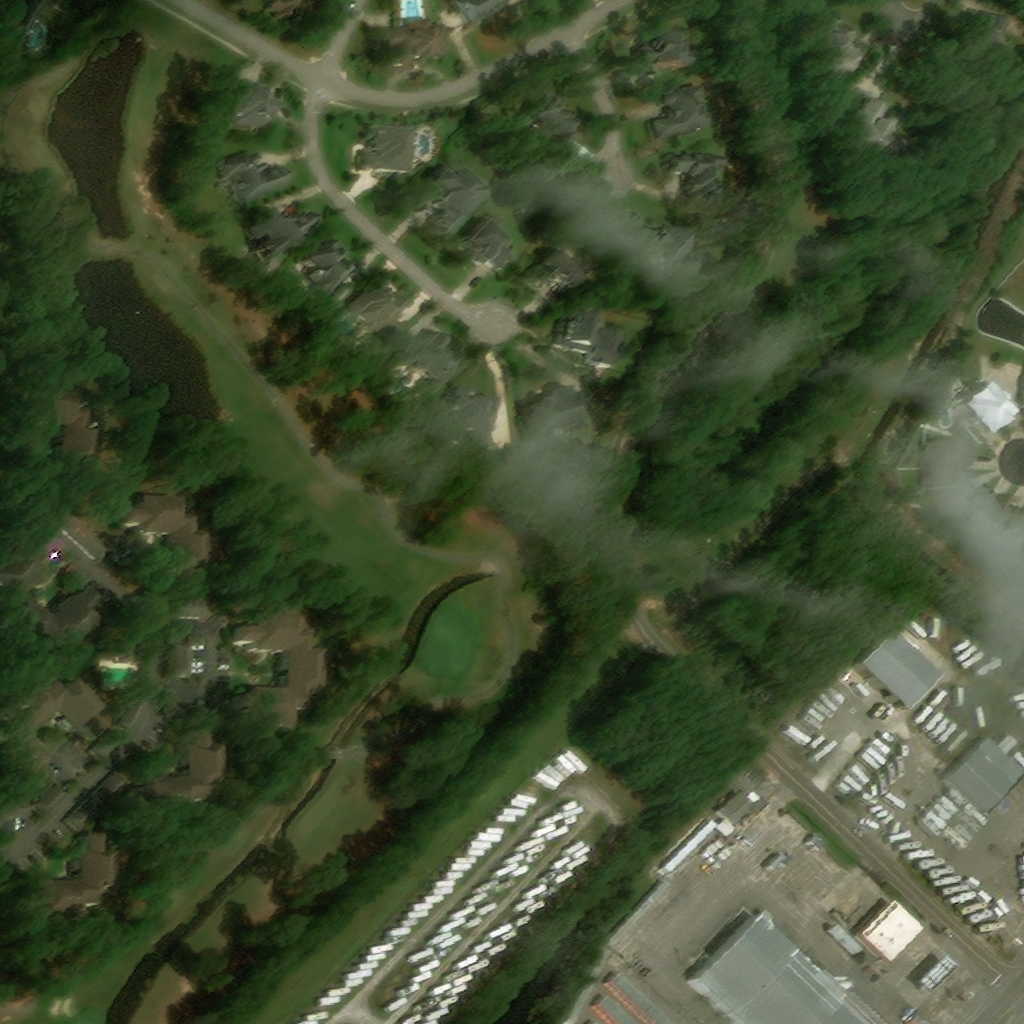no_damage: (690, 913, 878, 1023), (0, 532, 102, 657), (0, 677, 107, 785), (234, 613, 324, 730), (120, 494, 220, 590), (7, 379, 107, 468), (18, 833, 116, 918), (130, 728, 223, 813), (858, 628, 940, 709), (948, 736, 1023, 814), (421, 162, 486, 240), (512, 92, 585, 159), (846, 97, 908, 167), (855, 899, 922, 962), (631, 222, 696, 284), (556, 307, 622, 367), (398, 329, 459, 392), (611, 879, 671, 943), (445, 381, 500, 450), (521, 385, 586, 443), (249, 210, 322, 260), (221, 151, 291, 203), (607, 971, 676, 1023), (566, 948, 612, 1023), (349, 283, 409, 340), (653, 84, 714, 138), (304, 238, 356, 296), (384, 18, 449, 64), (665, 818, 720, 872), (960, 381, 1015, 434), (526, 247, 590, 292), (461, 219, 515, 269), (961, 11, 1009, 64), (672, 154, 728, 199), (364, 125, 415, 171), (820, 13, 860, 69), (229, 84, 278, 126), (640, 31, 693, 68), (450, 0, 515, 29), (719, 789, 768, 825), (96, 766, 138, 807), (66, 797, 108, 836), (268, 0, 318, 31), (917, 955, 955, 993), (113, 533, 160, 560), (92, 727, 128, 762), (595, 994, 638, 1023), (35, 783, 69, 817), (117, 704, 142, 733), (3, 799, 34, 820), (174, 599, 207, 618), (178, 644, 196, 677), (120, 639, 138, 663), (718, 817, 736, 835), (161, 603, 175, 625), (267, 260, 278, 270)
unclassified: (963, 490, 1023, 548), (52, 504, 112, 561), (921, 439, 970, 490), (1, 0, 50, 50), (177, 704, 206, 716)
